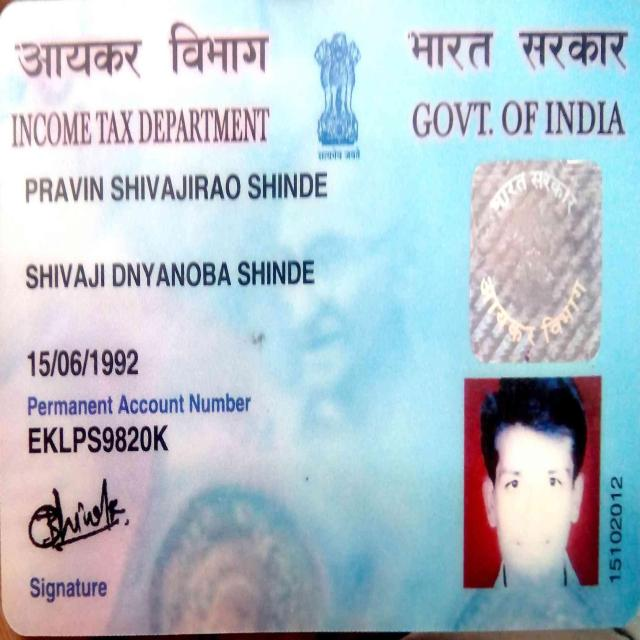pan_card: (0, 11, 633, 620)
